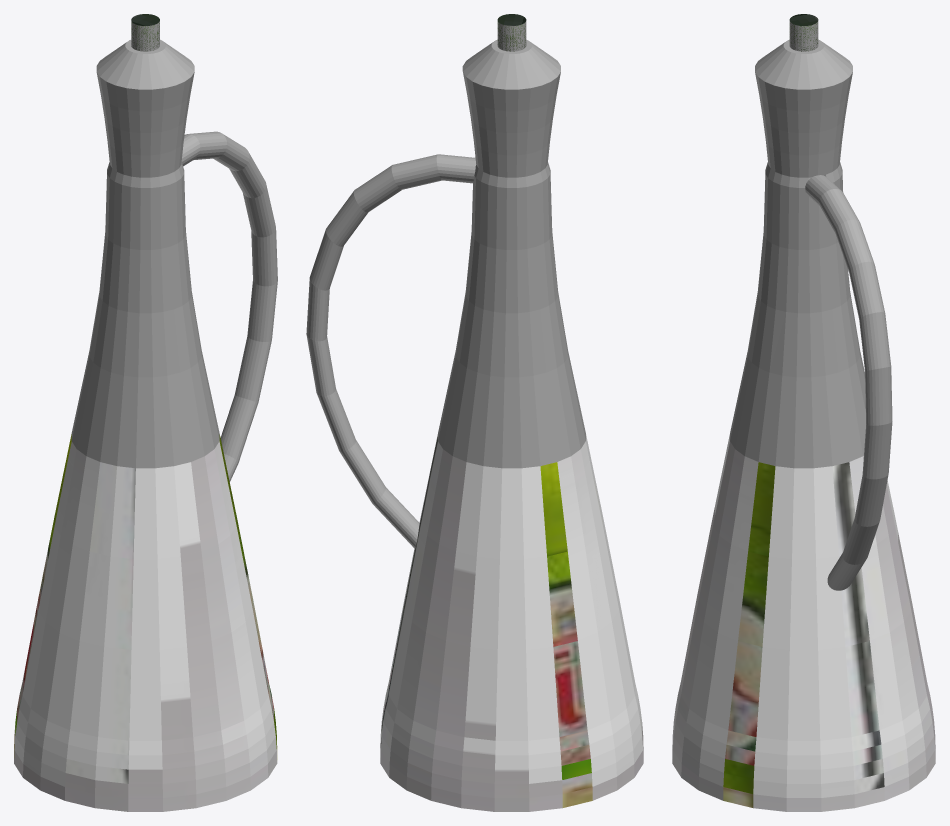
3 renders of one model, left to right at view 1: azimuth 30°, elevation 25°; view 2: azimuth 150°, elevation 25°; view 3: azimuth 270°, elevation 25°, orthographic.
Parts seen in each view (by area): view 1: mesh1.001_mesh1-geometry; view 2: mesh1.001_mesh1-geometry; view 3: mesh1.001_mesh1-geometry.
Part boxes in pixels (<box>): mesh1.001_mesh1-geometry: <box>14,14,277,811</box>; mesh1.001_mesh1-geometry: <box>306,14,643,811</box>; mesh1.001_mesh1-geometry: <box>672,14,935,811</box>.
Size of the model in its own units: 0.355 by 0.8893 by 0.2881.
